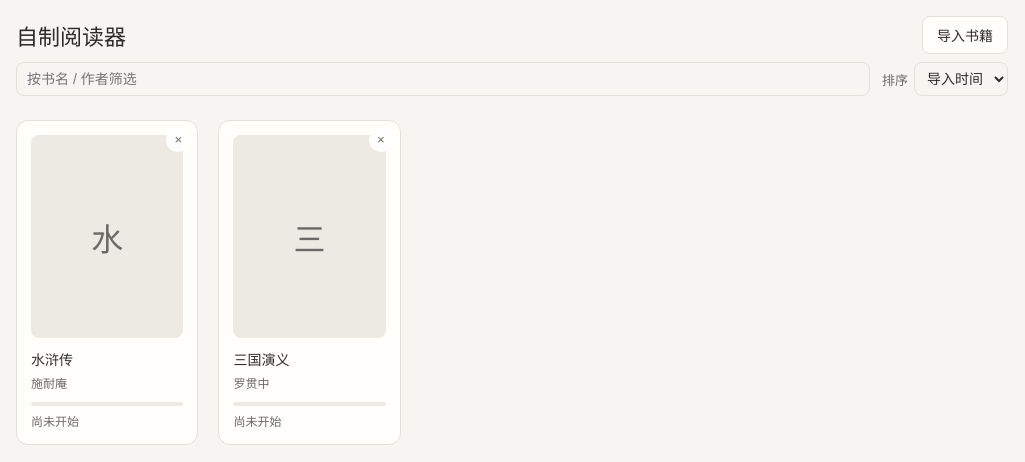
Test: 书库页 › 可按书名 / 作者筛选，筛不出来时说"没有匹配"而不是"书架是空的"
Step 1. Type "水浒" into the search field named "筛选书籍" → coordinates (443, 79), box x1=16 y1=62 x2=870 y2=96
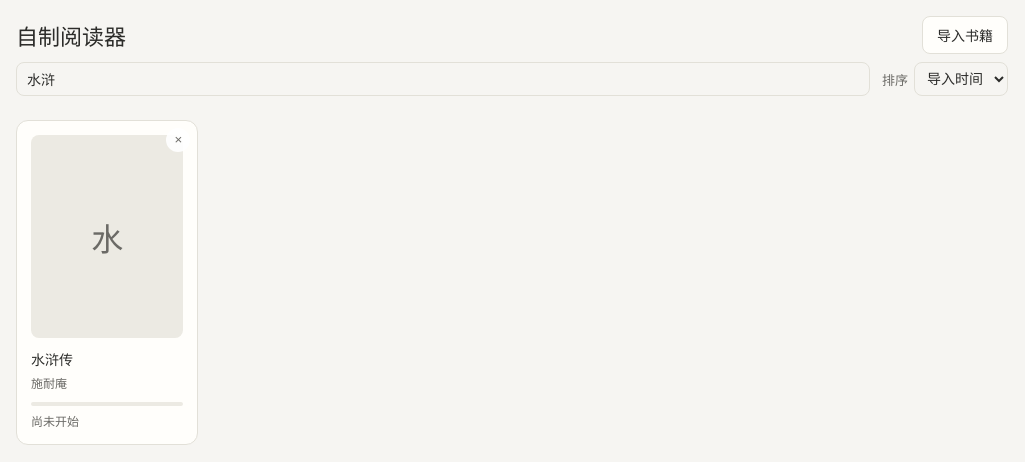
Expected: the text "水浒传" is shown, x1=31 y1=350 x2=73 y2=369
Now the button "三国演义" is gone
Step 2. Replace the text in the search field named "筛选书籍" with "zzz" → coordinates (443, 79), box x1=16 y1=62 x2=870 y2=96
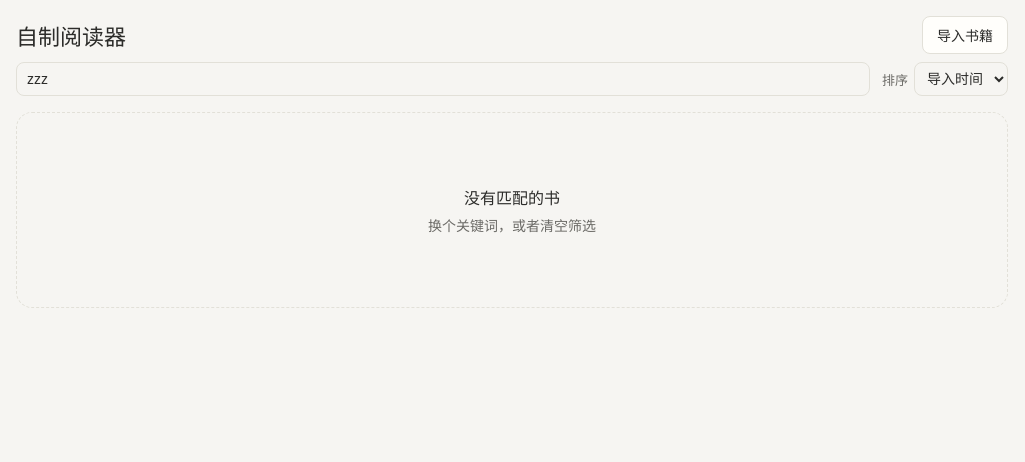
Now the text "没有匹配的书" is shown, box x1=464 y1=187 x2=560 y2=209
